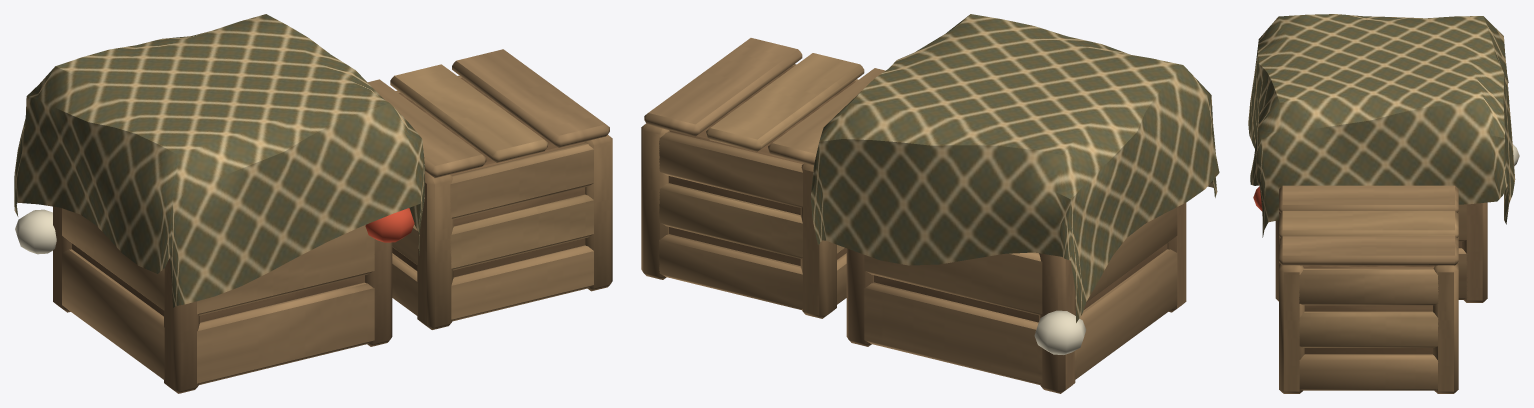
File: crate-net.glb
The picture shows the model from 3 angles, left to right: view 1: azimuth 30°, elevation 25°; view 2: azimuth 150°, elevation 25°; view 3: azimuth 270°, elevation 25°; orthographic projection. The views are drawn at different scales.
Parts seen in each view (by area): view 1: crate-net; view 2: crate-net; view 3: crate-net.
Boxes of the visible parts, x1,y1,x2,y2 form: crate-net: (14, 14, 612, 393); crate-net: (641, 14, 1219, 393); crate-net: (1248, 14, 1519, 393).
Size of the model in its own units: 1.41 by 0.7 by 0.8456.
Materials: 3 (2 with a texture image).
